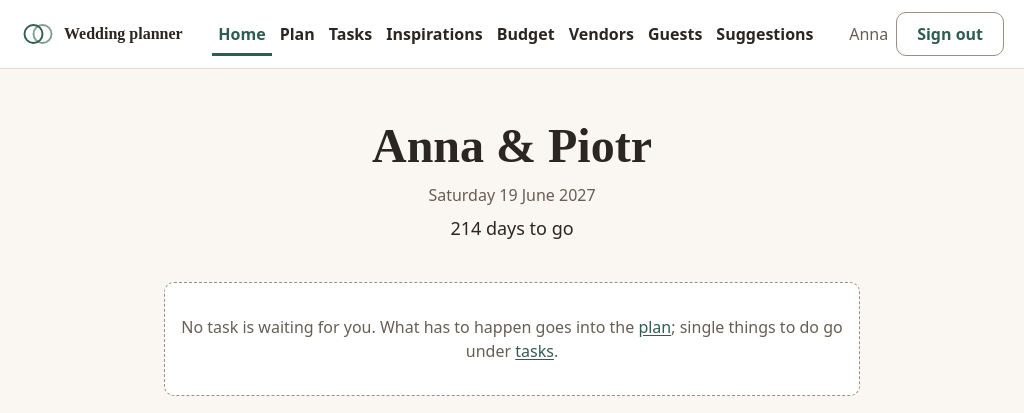
Scenario: the guest list › is one of the pages in the top bar and starts empty, without a head count
Click the link "Guests". click: (675, 34)
box: [648,23,702,45]
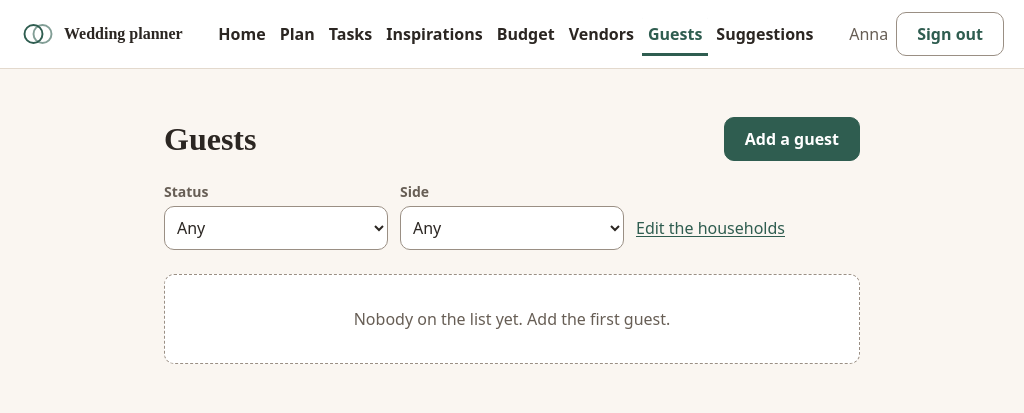
Result: the text "Nobody on the list yet. Add the first guest." is shown at [164,274,860,364]
